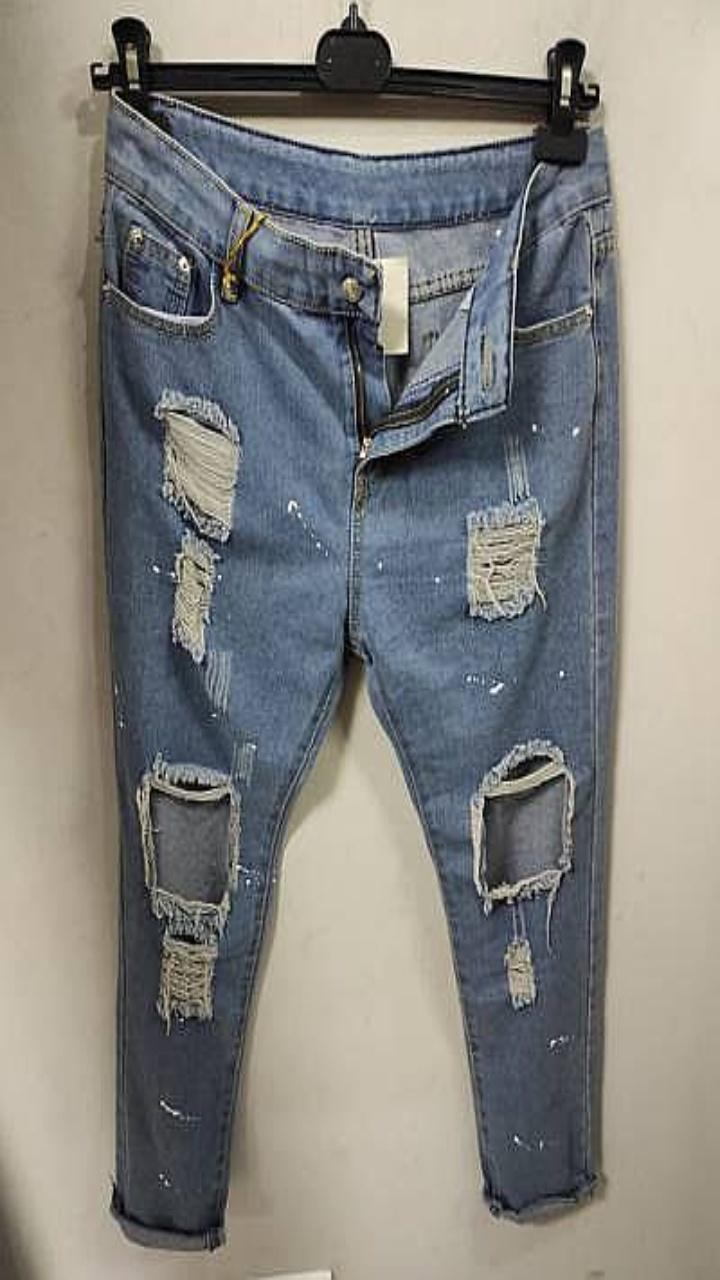Jeans: (100, 92, 618, 1249)
